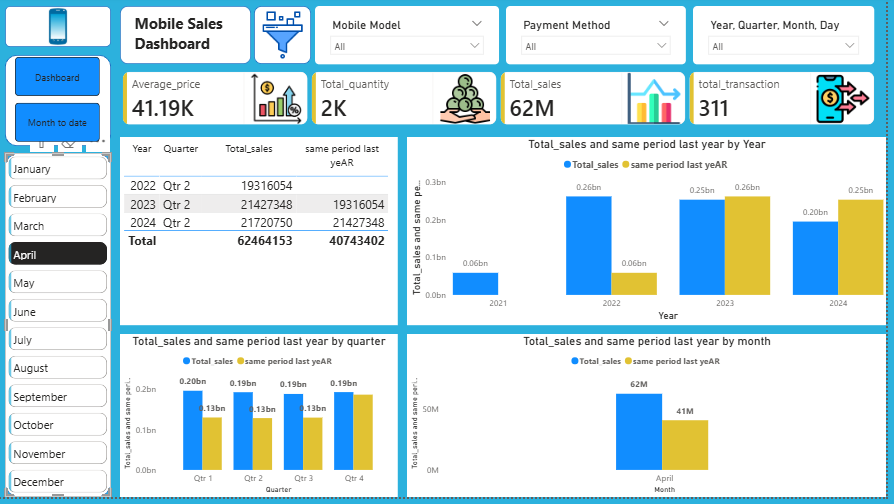

What the dashboard file says about the page in this screenshot:
{"tool":"powerbi","page":{"name":"Same period last year ","canvas":[1280,720],"ordinal":2},"visuals":[{"type":"shape","box":[10.1,13,152.6,59],"z":0},{"type":"image","box":[63.4,13,46.1,59],"z":1000},{"type":"shape","box":[10.1,83.5,152.6,131],"z":2000},{"type":"cardVisual","fields":{"Data":["mobile sale data.Average_price","mobile sale data.Total_quantity","mobile sale data.Total_sales","mobile sale data.total_transaction"]},"box":[162.7,90.7,1117.4,110.9],"z":3000},{"type":"slicer","fields":{"Values":["mobile sale data.Mobile Model"]},"box":[456.5,13,265,83.5],"z":4000},{"type":"slicer","fields":{"Values":["mobile sale data.Payment Method"]},"box":[731.5,13,259.2,83.5],"z":5000},{"type":"slicer","fields":{"Values":["customed calender.Date.Variation.Date Hierarchy.Year","customed calender.Date.Variation.Date Hierarchy.Quarter","customed calender.Date.Variation.Date Hierarchy.Month","customed calender.Date.Variation.Date Hierarchy.Day"]},"box":[1000.8,13,260.6,83.5],"z":6000},{"type":"shape","box":[369,13,82.1,83.5],"z":7000},{"type":"image","box":[374.4,18.7,70.6,72],"z":8000},{"type":"shape","box":[175.7,13,188.6,83.5],"z":9000},{"type":"textbox","box":[191.5,18.7,158.4,72],"z":10000},{"type":"shape","box":[10.1,224.6,152.6,495.4],"z":11000},{"type":"advancedSlicerVisual","fields":{"Values":["customed calender.Date.Variation.Date Hierarchy.Month"]},"box":[10.1,224.6,152.6,495.4],"z":12000},{"type":"tableEx","fields":{"Values":["customed calender.Date.Variation.Date Hierarchy.Year","customed calender.Date.Variation.Date Hierarchy.Quarter","mobile sale data.Total_sales","mobile sale data.same period last yeAR"]},"box":[175.7,201.6,400.3,270.7],"z":13000},{"type":"clusteredColumnChart","title":"Total_sales and same period last year by Year","fields":{"Category":["customed calender.Date.Variation.Date Hierarchy.Year","customed calender.Date.Variation.Date Hierarchy.Quarter"],"Y":["mobile sale data.Total_sales","mobile sale data.same period last yeAR"]},"box":[589,201.6,691.2,270.7],"z":14000},{"type":"clusteredColumnChart","title":"Total_sales and same period last year by month","fields":{"Y":["mobile sale data.Total_sales","mobile sale data.same period last yeAR"],"Category":["customed calender.Date.Variation.Date Hierarchy.Month"]},"box":[589,485.3,691.2,234.7],"z":15000},{"type":"clusteredColumnChart","title":"Total_sales and same period last year by quarter","fields":{"Y":["mobile sale data.Total_sales","mobile sale data.same period last yeAR"],"Category":["customed calender.Date.Variation.Date Hierarchy.Quarter"]},"box":[175.7,485.3,400.3,234.7],"z":16000},{"type":"pageNavigator","box":[24.5,86.4,122.4,123.8],"z":16001}]}

Visuals, with their boxes in screenshot pixels (x1, y1, x2, y2), scaled from the page's 1280x720 canvas onto the 894x504 screenshot:
shape: Rect(7, 9, 114, 50)
image: Rect(44, 9, 76, 50)
shape: Rect(7, 58, 114, 150)
cardVisual - mobile sale data.Average_price x mobile sale data.Total_quantity: Rect(114, 63, 893, 141)
slicer - mobile sale data.Mobile Model: Rect(319, 9, 504, 68)
slicer - mobile sale data.Payment Method: Rect(511, 9, 692, 68)
slicer - customed calender.Date.Variation.Date Hierarchy.Year x customed calender.Date.Variation.Date Hierarchy.Quarter: Rect(699, 9, 881, 68)
shape: Rect(258, 9, 315, 68)
image: Rect(261, 13, 311, 63)
shape: Rect(123, 9, 254, 68)
textbox: Rect(134, 13, 244, 63)
shape: Rect(7, 157, 114, 503)
advancedSlicerVisual - customed calender.Date.Variation.Date Hierarchy.Month: Rect(7, 157, 114, 503)
tableEx - customed calender.Date.Variation.Date Hierarchy.Year x customed calender.Date.Variation.Date Hierarchy.Quarter: Rect(123, 141, 402, 331)
"Total_sales and same period last year by Year" clusteredColumnChart: Rect(411, 141, 893, 331)
"Total_sales and same period last year by month" clusteredColumnChart: Rect(411, 340, 893, 503)
"Total_sales and same period last year by quarter" clusteredColumnChart: Rect(123, 340, 402, 503)
pageNavigator: Rect(17, 60, 103, 147)
